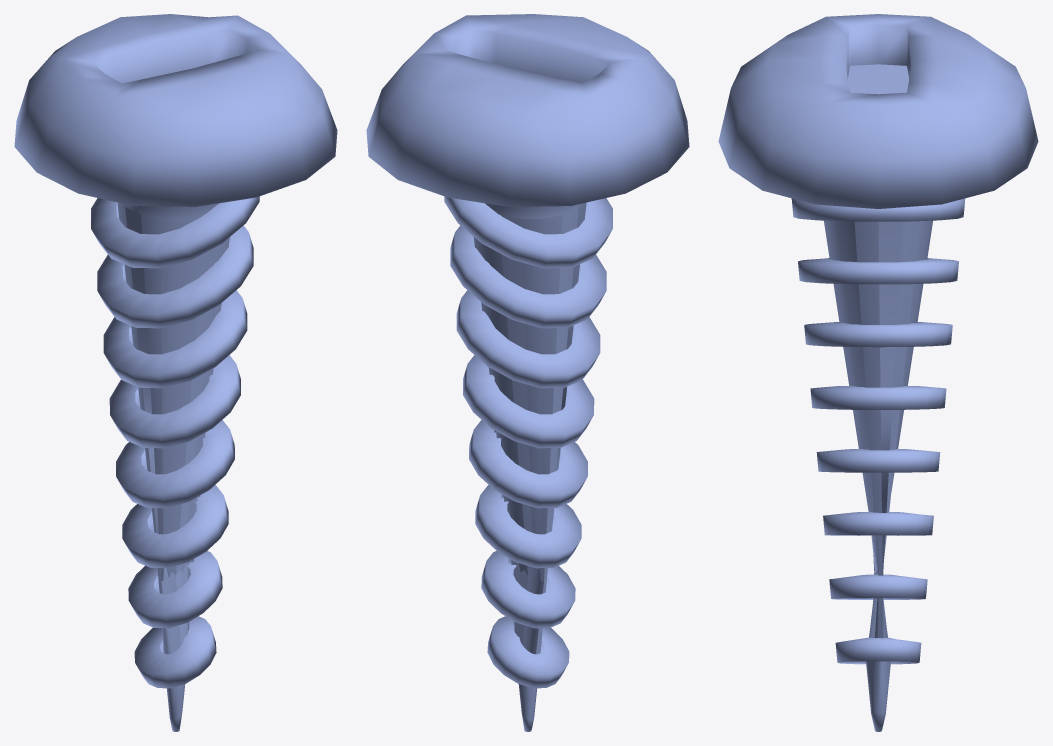
Rendered from Tornillo (2).fbx.
The picture shows the model from 3 angles, left to right: view 1: azimuth 30°, elevation 25°; view 2: azimuth 150°, elevation 25°; view 3: azimuth 270°, elevation 25°; orthographic projection.
Parts seen in each view (by area): view 1: Cube.001; view 2: Cube.001; view 3: Cube.001.
Boxes of the visible parts, left/top/right/bottom form: Cube.001: left=14, top=14, right=337, bottom=731; Cube.001: left=366, top=14, right=689, bottom=731; Cube.001: left=718, top=14, right=1038, bottom=731.
Size of the model in its own units: 168 by 388 by 168.
